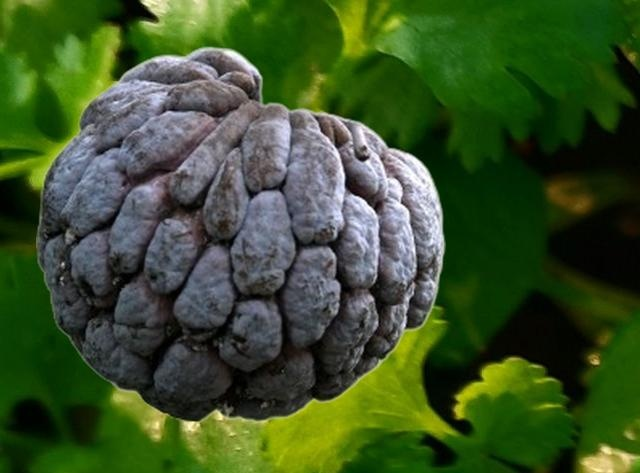atis: (36, 45, 444, 421)
